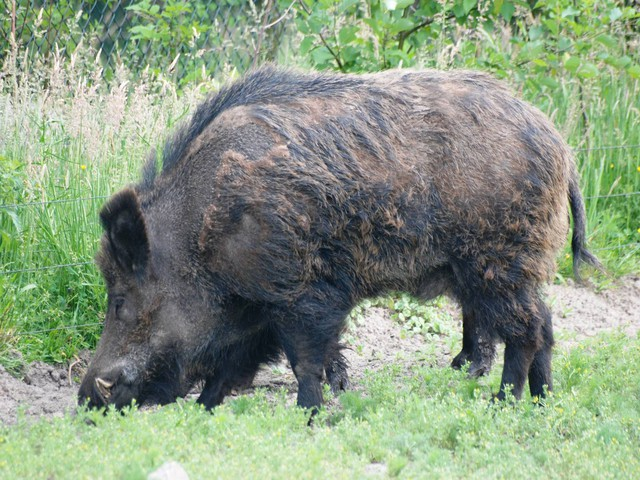Pig: (85, 59, 597, 405)
